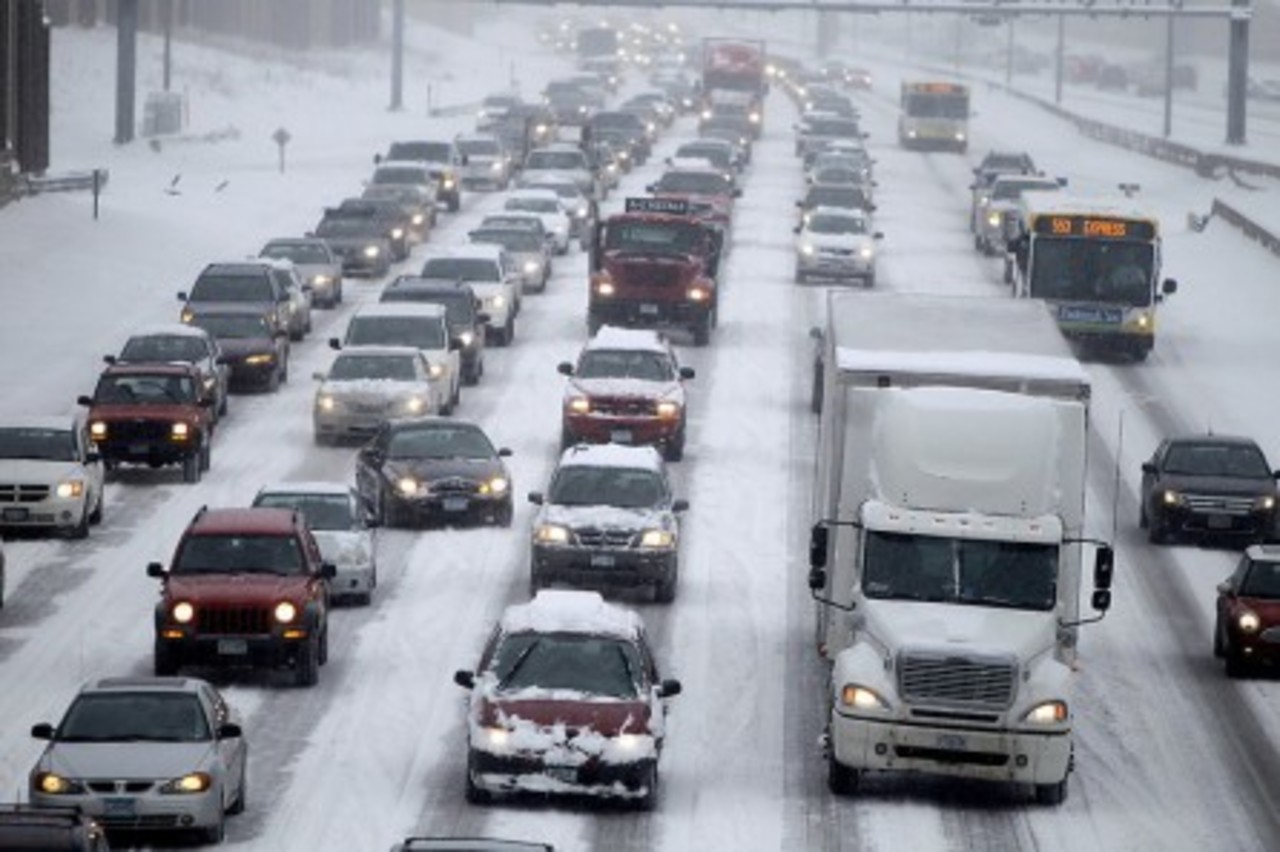bus: (1017, 202, 1163, 361), (897, 79, 971, 150)
car: (466, 603, 673, 804), (11, 678, 251, 847), (153, 510, 332, 687), (528, 445, 683, 603), (354, 418, 514, 533), (558, 330, 689, 465), (250, 480, 384, 607), (1139, 435, 1276, 549), (89, 362, 216, 477), (3, 416, 108, 534), (313, 348, 439, 446), (111, 329, 226, 423), (384, 270, 482, 371), (346, 303, 452, 394), (1210, 547, 1279, 678), (424, 251, 512, 340), (192, 309, 290, 387), (792, 207, 883, 287), (192, 265, 291, 328), (256, 239, 344, 309), (987, 175, 1056, 255), (654, 167, 736, 232), (470, 220, 543, 287), (521, 147, 617, 194), (503, 184, 568, 245), (345, 194, 411, 251), (671, 137, 743, 189), (390, 141, 460, 193), (315, 207, 382, 254), (377, 160, 436, 212), (807, 155, 870, 202), (591, 109, 646, 160), (370, 184, 428, 232), (813, 120, 869, 167), (458, 135, 503, 180), (543, 81, 588, 124), (586, 134, 632, 176), (978, 150, 1030, 186), (475, 90, 522, 125), (792, 114, 830, 153), (584, 65, 618, 94), (637, 91, 667, 120), (844, 66, 873, 88)
truck: (817, 366, 1099, 803), (581, 202, 717, 337), (698, 38, 764, 137)
